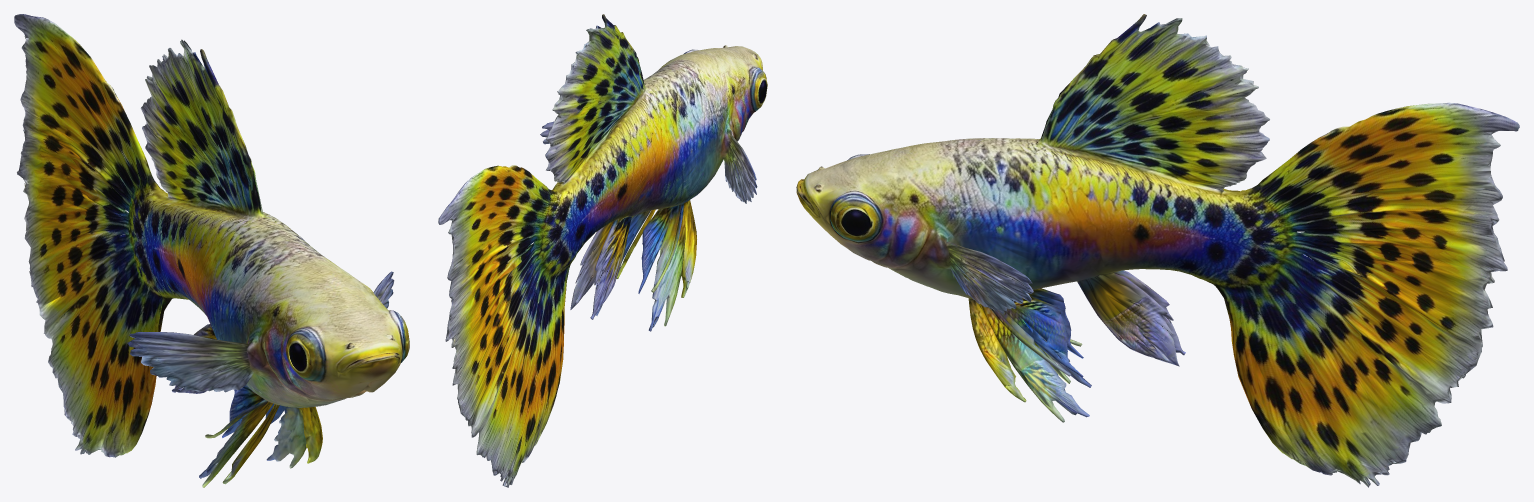
The model's file is guppy-1.glb.
3 renders of one model, left to right at view 1: azimuth 30°, elevation 25°; view 2: azimuth 150°, elevation 25°; view 3: azimuth 270°, elevation 25°, orthographic. The views are drawn at different scales.
Visible parts, largest first — view 1: Body; view 2: Body; view 3: Body.
Part boxes in pixels (x1,y1,x2,y2): Body: [14, 14, 409, 487]; Body: [438, 14, 767, 487]; Body: [796, 14, 1519, 487].
Size of the model in its own units: 0.2339 by 0.4107 by 0.5694.
Materials: 1 (1 with a texture image).
